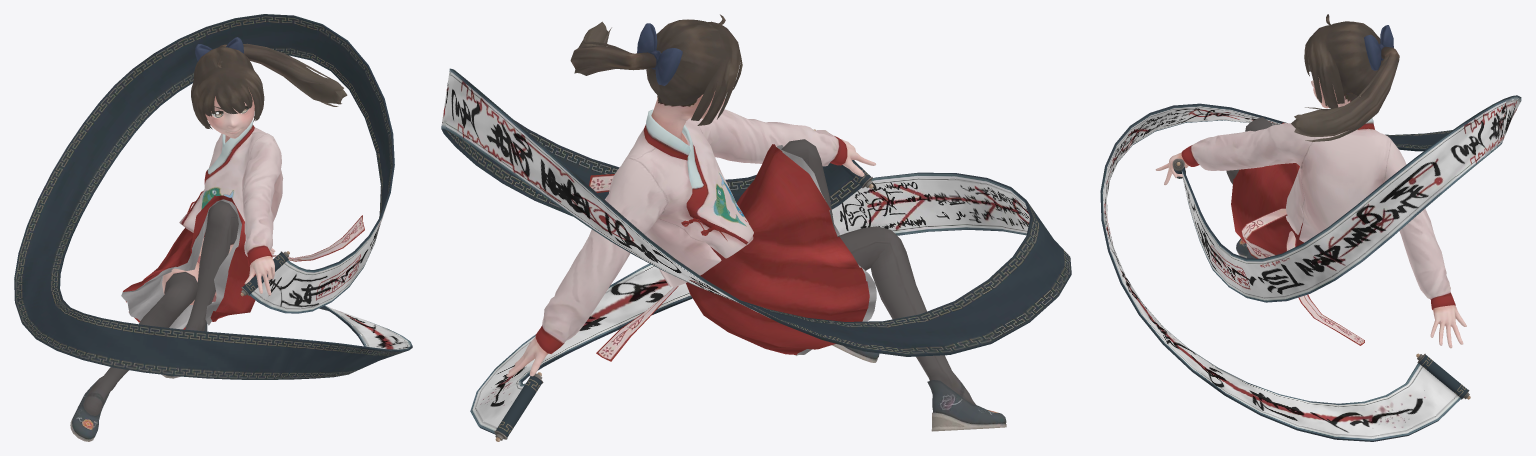
The picture shows the model from 3 angles, left to right: view 1: azimuth 30°, elevation 25°; view 2: azimuth 150°, elevation 25°; view 3: azimuth 270°, elevation 25°; orthographic projection. The views are drawn at different scales.
Parts seen in each view (by area): view 1: Scroll_Props_0, Body_FoxGirl_0; view 2: Body_FoxGirl_0, Scroll_Props_0; view 3: Scroll_Props_0, Body_FoxGirl_0.
Boxes of the visible parts, x1,y1,x2,y2 form: Scroll_Props_0: (14,14,412,379); Body_FoxGirl_0: (70,37,364,441); Body_FoxGirl_0: (506,14,1006,431); Scroll_Props_0: (441,68,1071,441); Scroll_Props_0: (1100,95,1521,441); Body_FoxGirl_0: (1155,14,1466,348).
Size of the model in its own units: 103 by 80.28 by 89.72.
3 materials, 3 textured.
